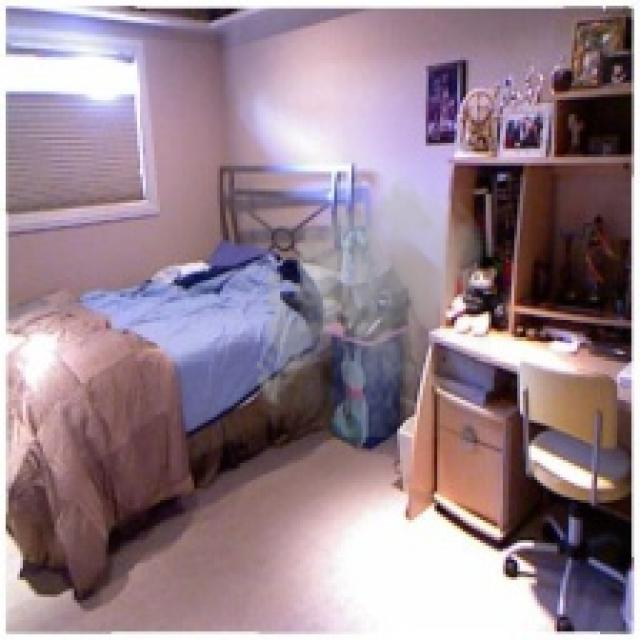Smoke: (248, 168, 492, 438)
